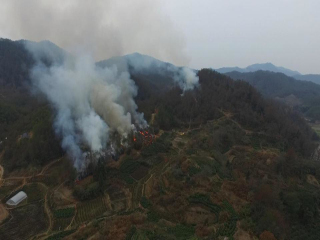smoke: (23, 16, 201, 174)
